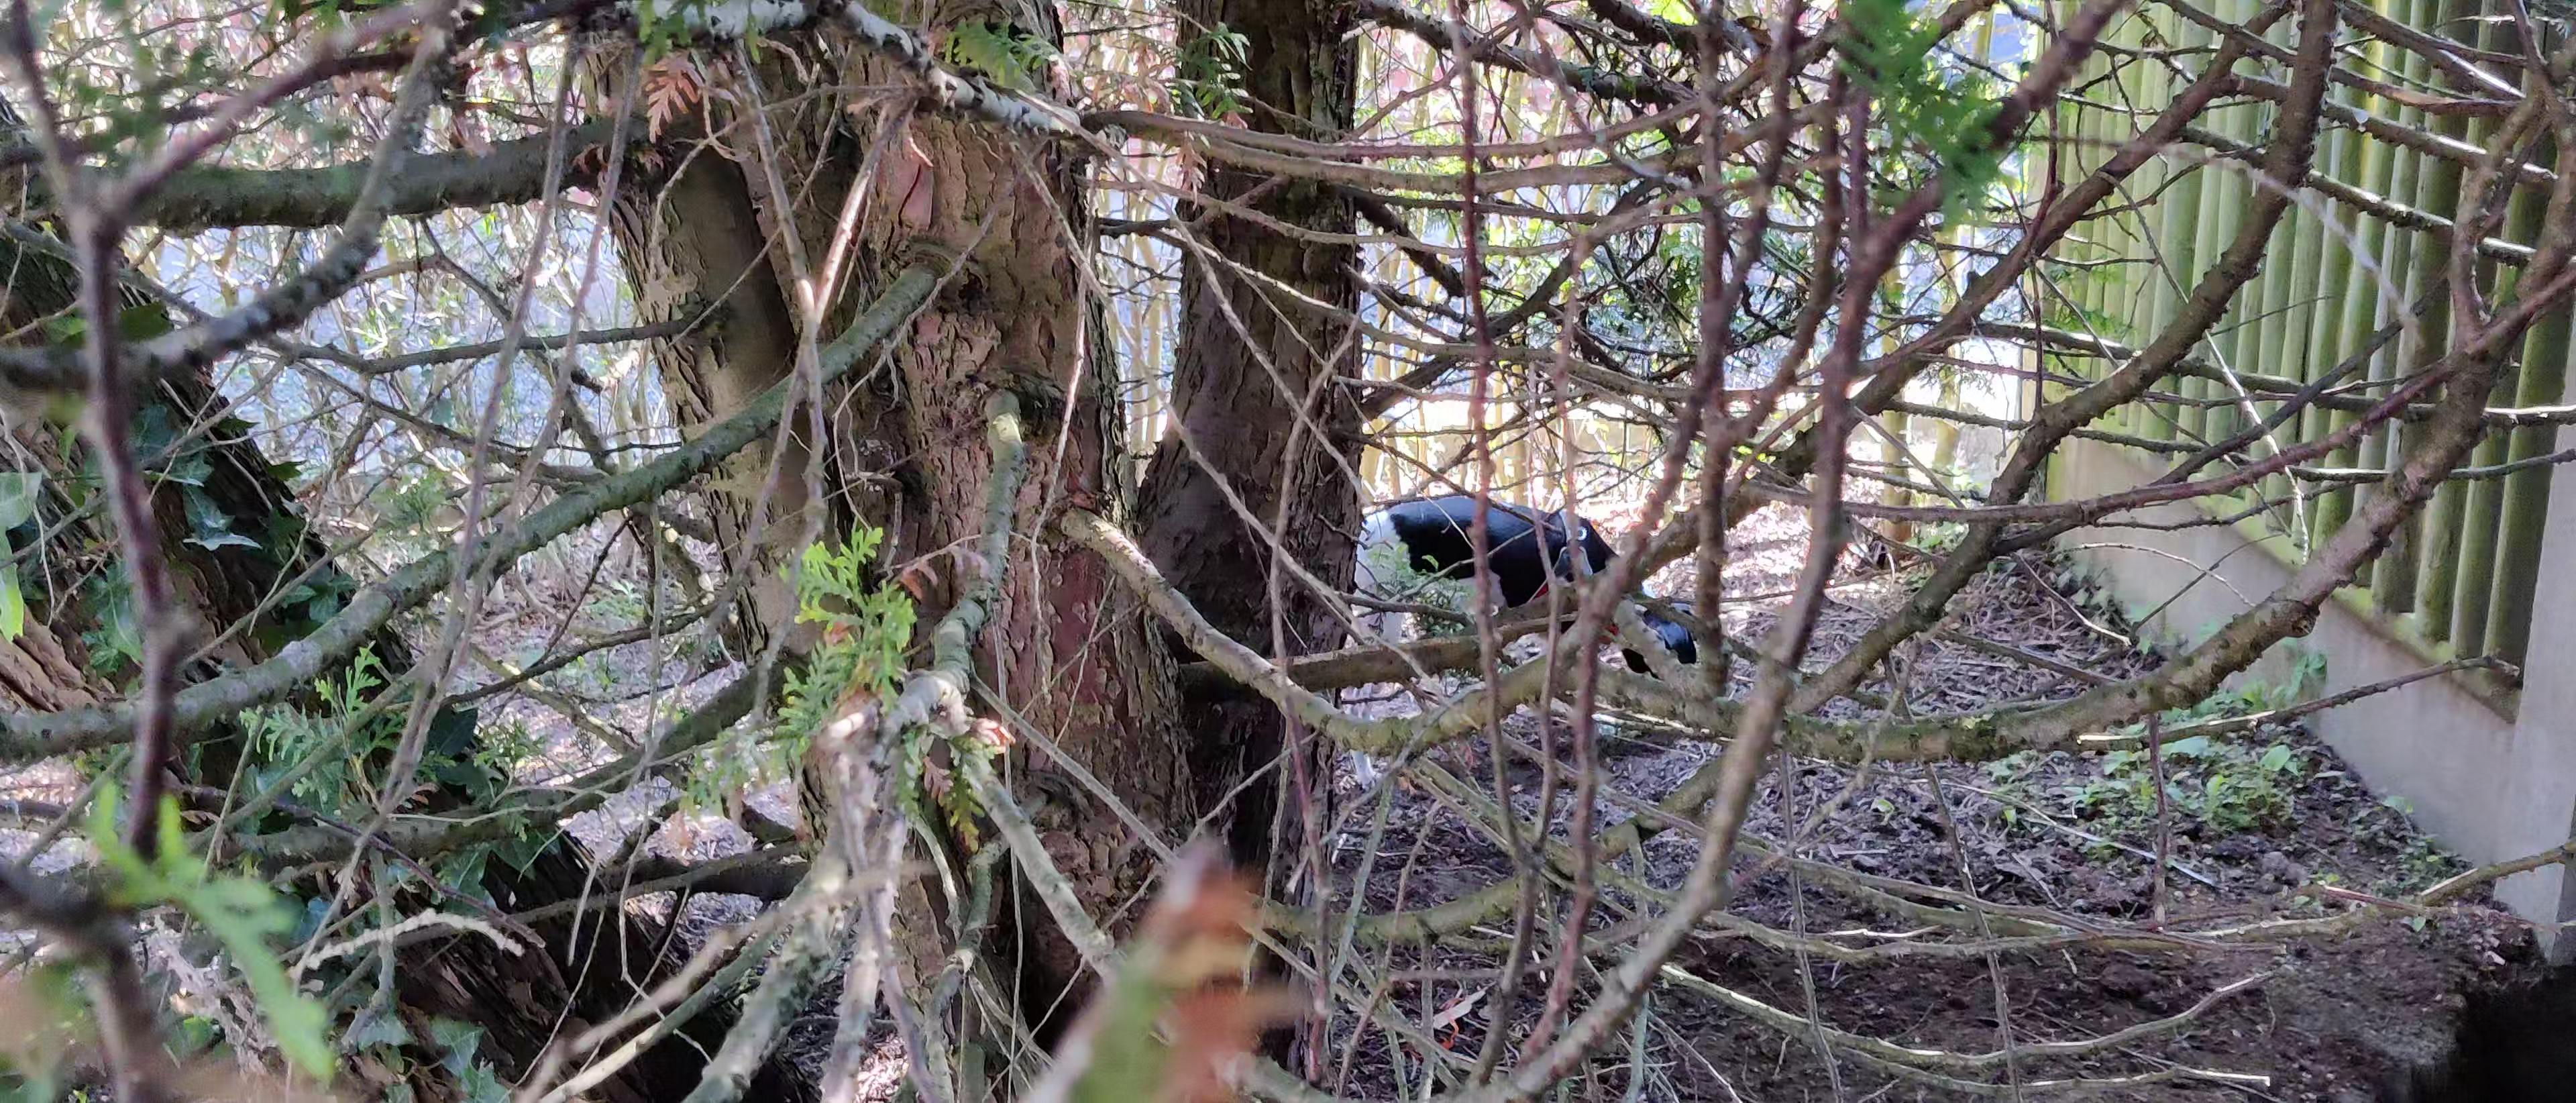Dog: (1329, 478, 1712, 809)
